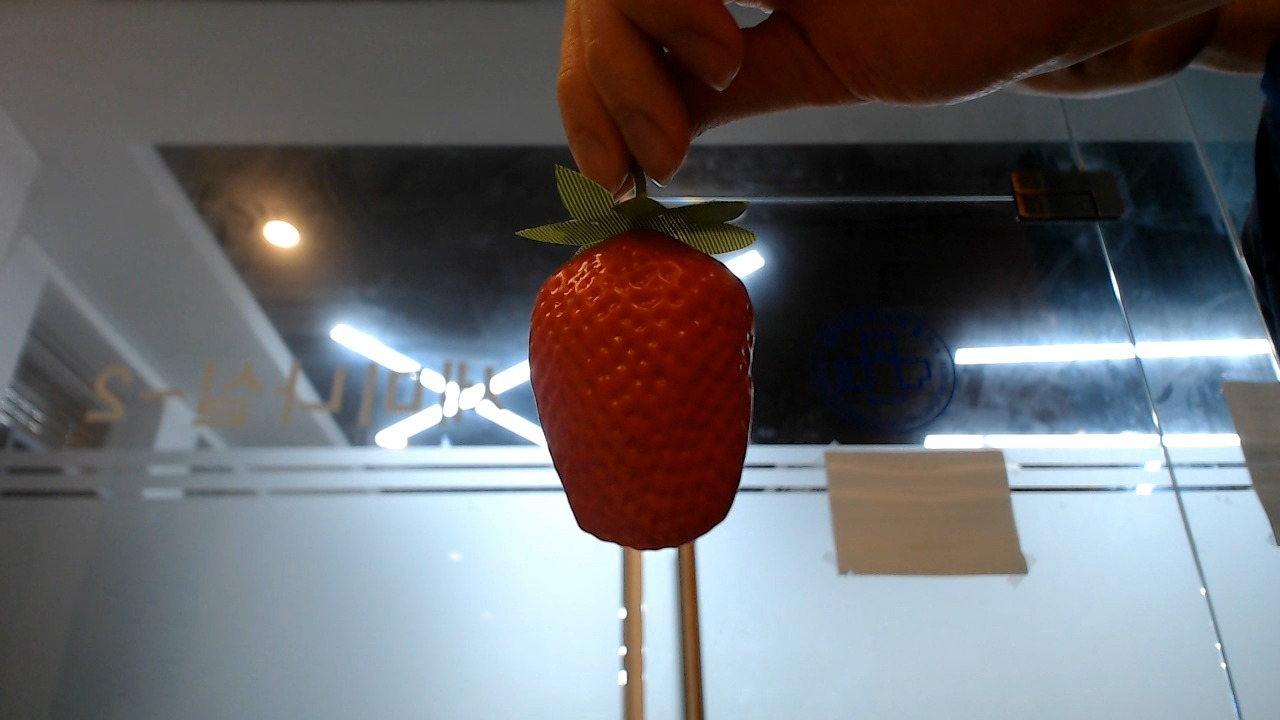strawberry: (526, 200, 754, 548)
